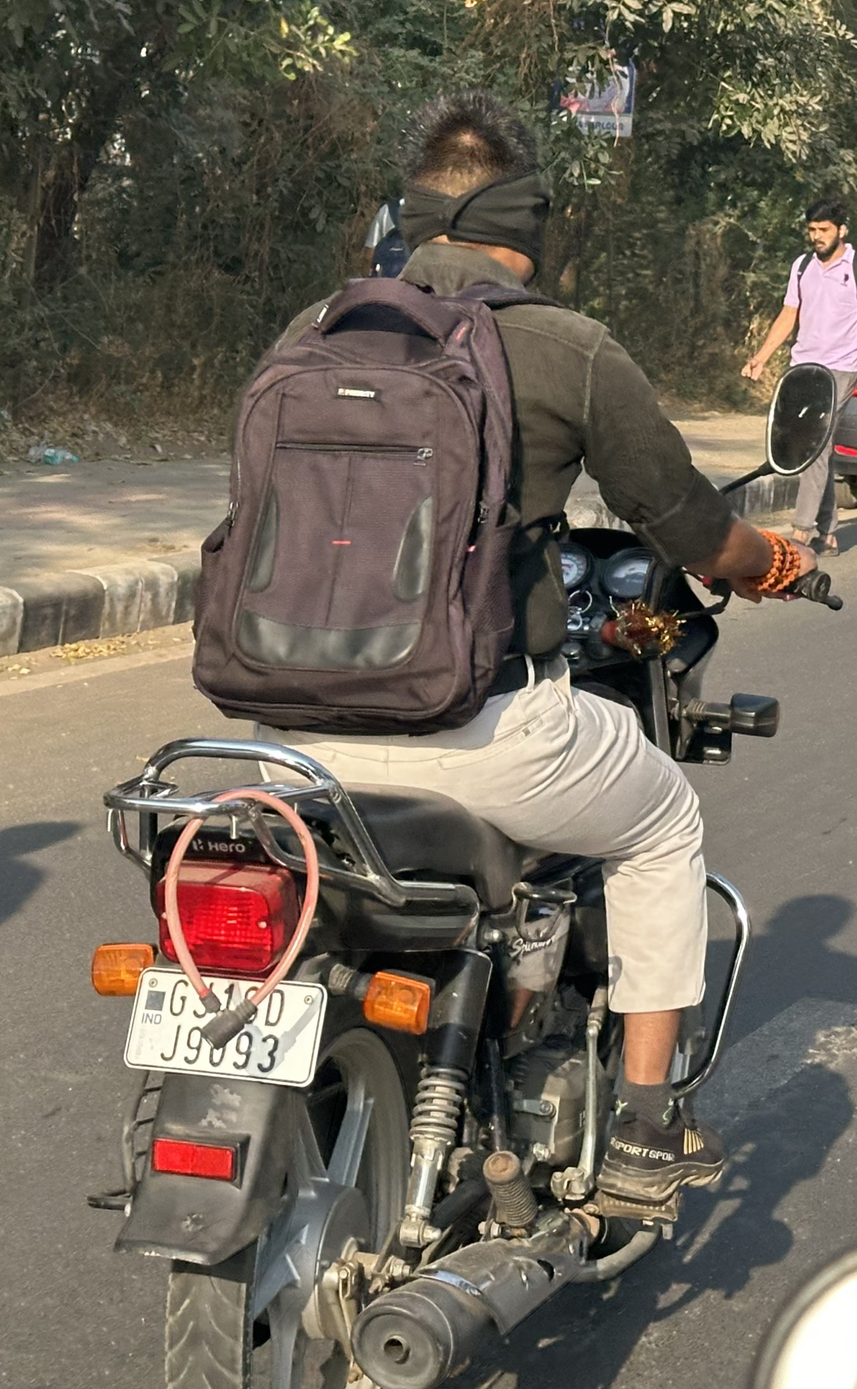BikeWithRider: (57, 82, 857, 1389)
NoHelmet: (367, 78, 596, 304)
